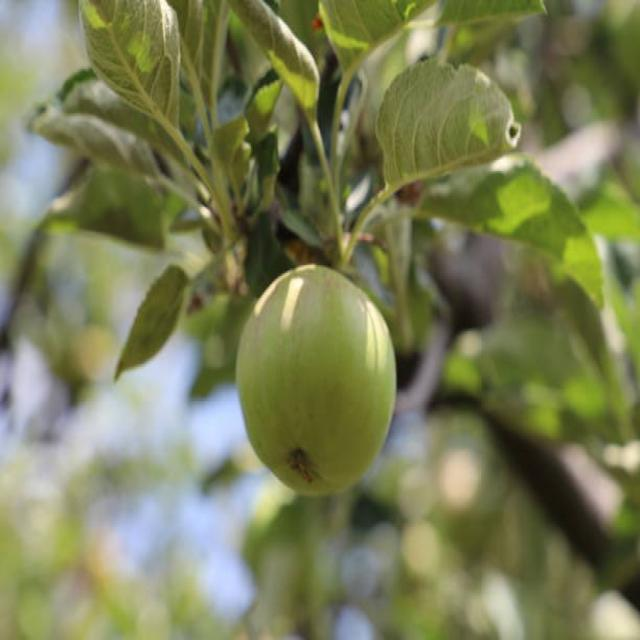Unripe: (236, 262, 397, 498)
